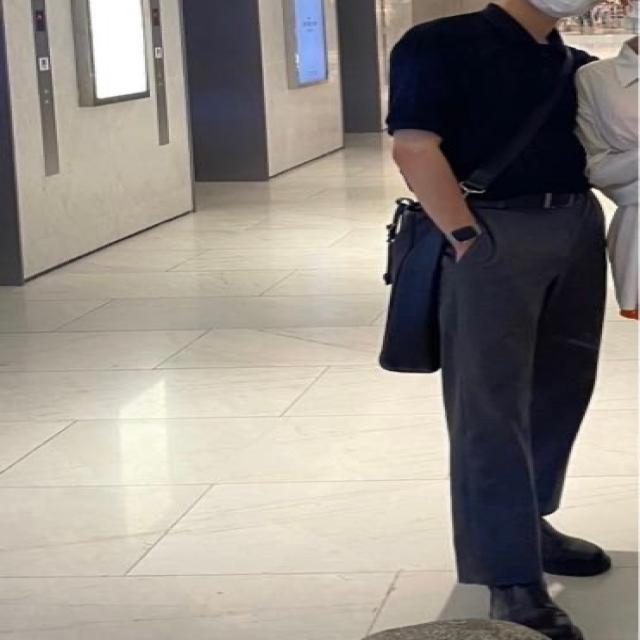shortsleeve: (381, 7, 596, 205)
slacks: (442, 193, 612, 596)
